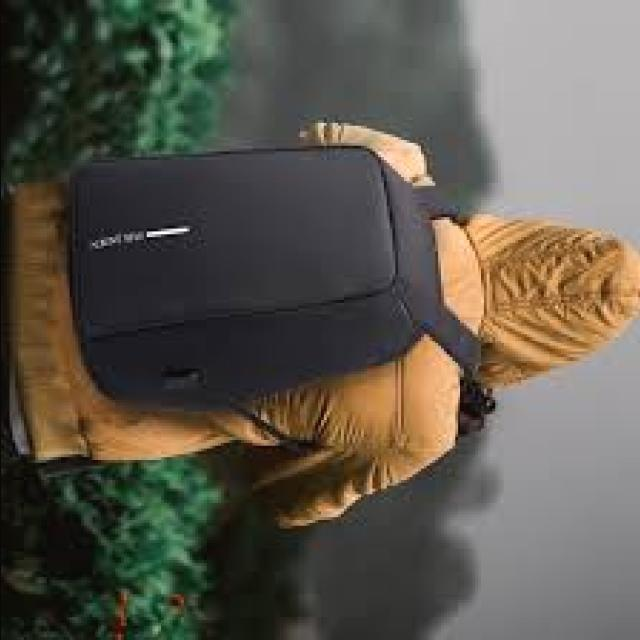backpack: (60, 136, 474, 423)
